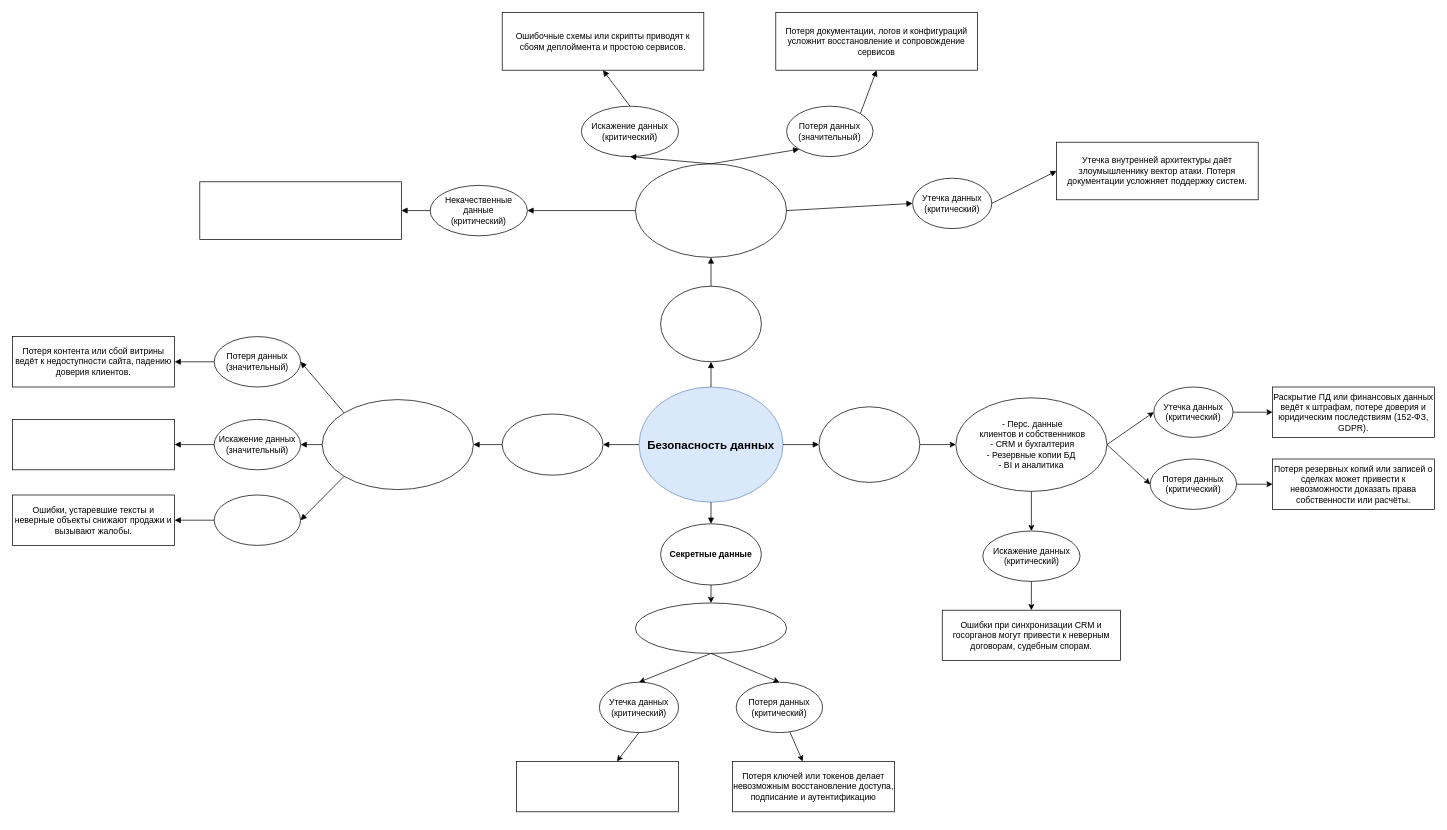
Some shapes in this 1447 by 830 pixel diagram are drawn without their labels. The shapes that lost their labels are listed below. From the top down, each one's centre as x and y in pixels, then its label:
pixel 300 210: Неактуальные инструкции или баг-репорты вызывают ошибки эксплуатации и затраты.
pixel 711 210: - Документация - Конфигурации DevOps - Логи, схемы интеграций
pixel 710 323: Внутренние данные
pixel 93 444: Подмена цен, адресов, планировок создаёт репутационный и юридический ущерб.
pixel 397 444: - Витрина продаж - Рекламные материалы - Публичные страницы
pixel 552 444: Публичные данные
pixel 869 444: Конфиденциальные данные
pixel 257 519: Некачественные данные (з начительный )
pixel 711 627: - Учётные записи и ключи - Сертификаты ЭП, токены
pixel 597 786: Компрометация ключей и токенов даёт доступ ко всей инфраструктуре
